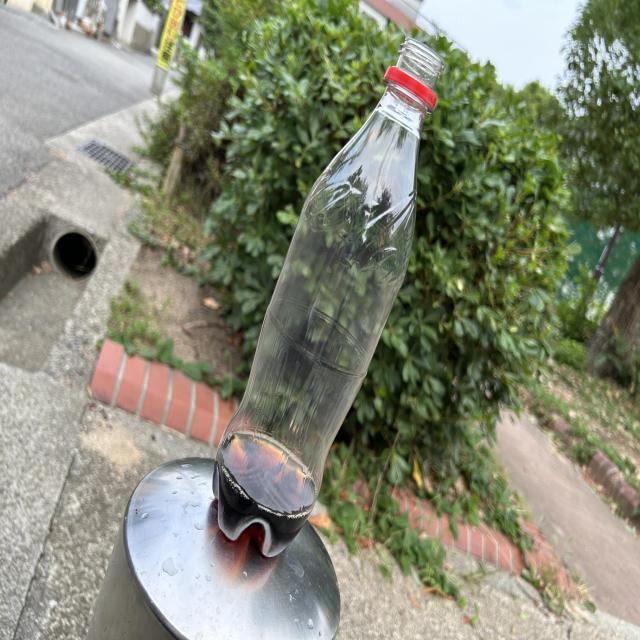low: (212, 40, 443, 556)
